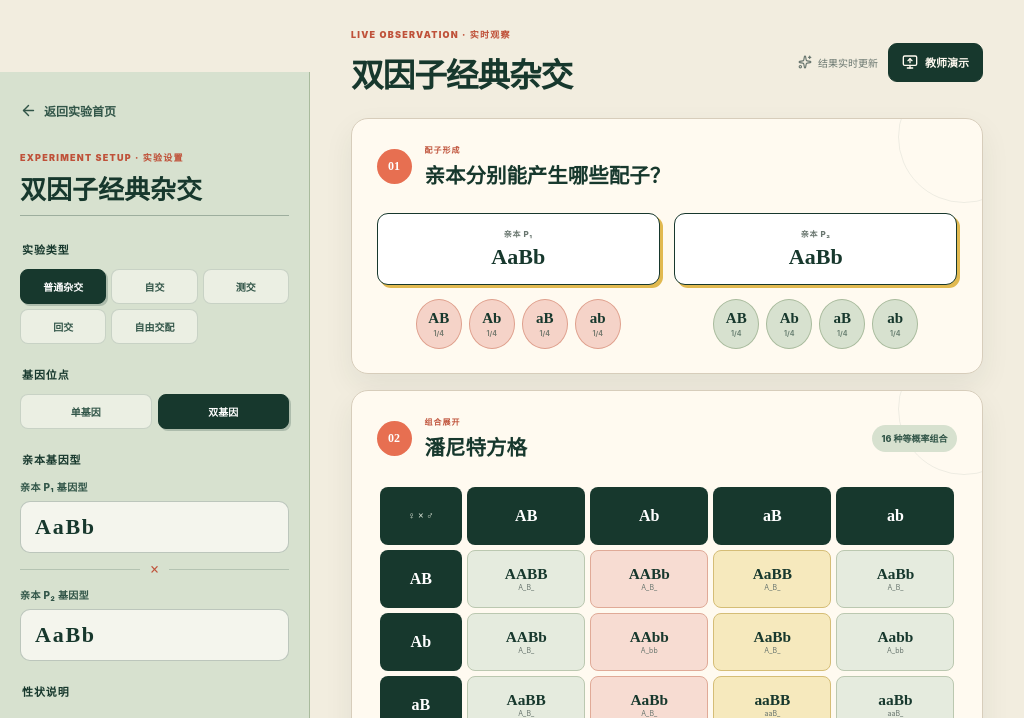
Scenario: LabPage › switches a cross between one and two loci
Click the button "单基因". click: [86, 411]
box: [20, 394, 152, 429]
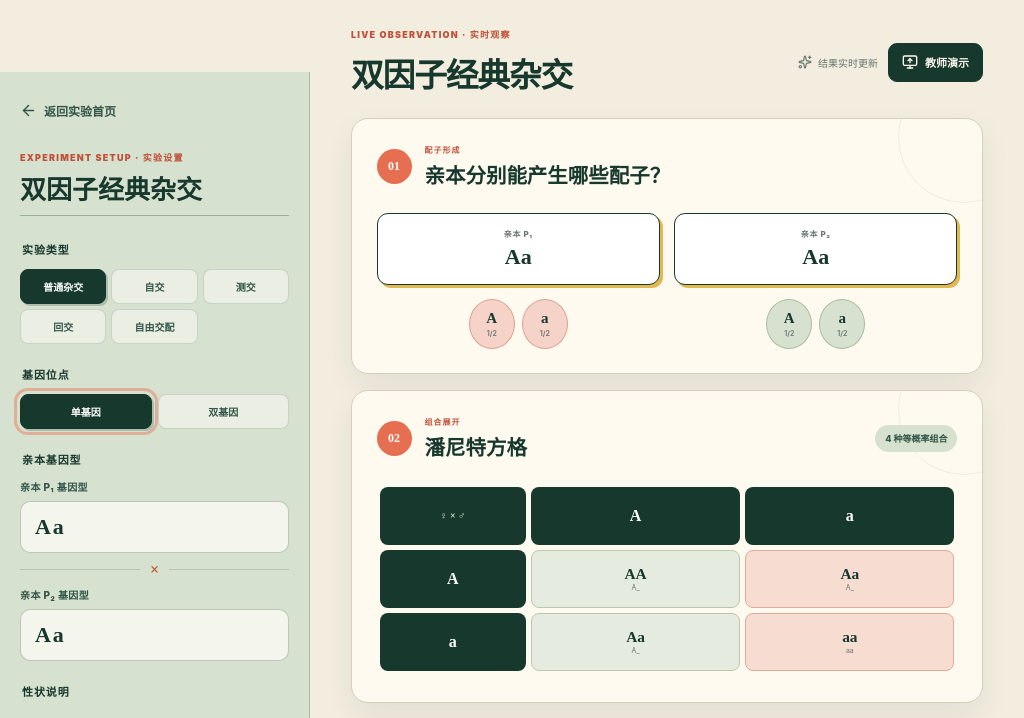
Result: the field labelled "亲本 P₁ 基因型" holds "Aa" at [20, 501, 289, 553]
Result: the field labelled "亲本 P₂ 基因型" holds "Aa" at [20, 609, 289, 661]
